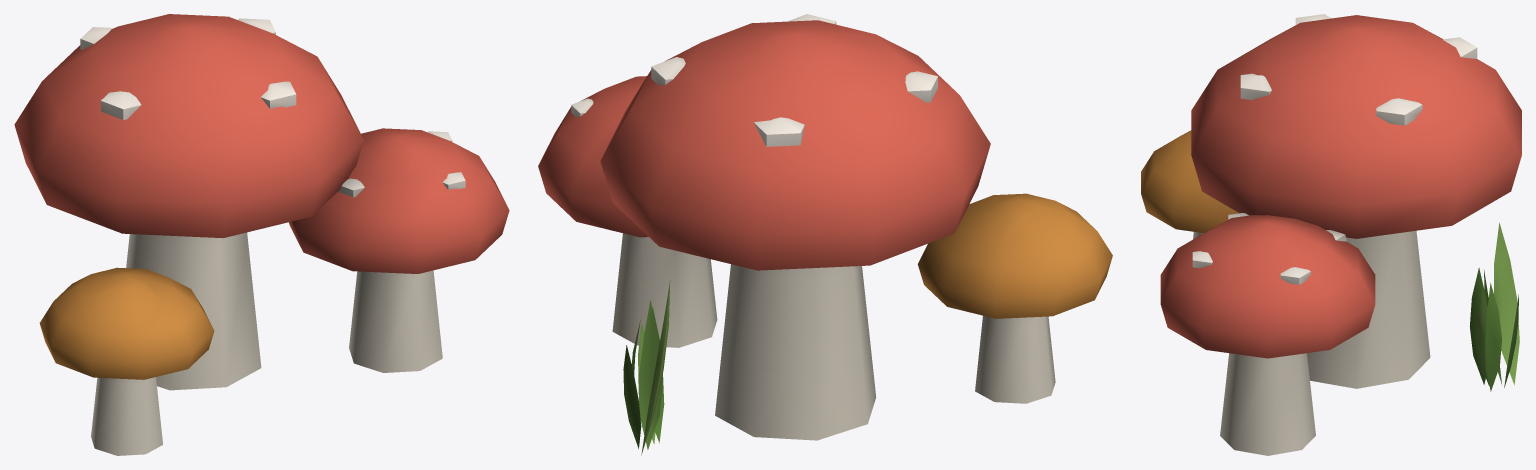
Rendered from mushrooms.glb.
3 views of the same model, side by side, from view 1: azimuth 30°, elevation 25°; view 2: azimuth 150°, elevation 25°; view 3: azimuth 270°, elevation 25° (orthographic). The views are drawn at different scales.
Visible parts, largest first — view 1: Mushrooms; view 2: Mushrooms; view 3: Mushrooms.
Boxes of the visible parts, bbox=[...] form: Mushrooms: bbox=[14, 14, 509, 455]; Mushrooms: bbox=[538, 14, 1112, 455]; Mushrooms: bbox=[1141, 14, 1521, 455].
Bounding box in the file's own units: 0.7205 × 0.49 × 0.5156.
